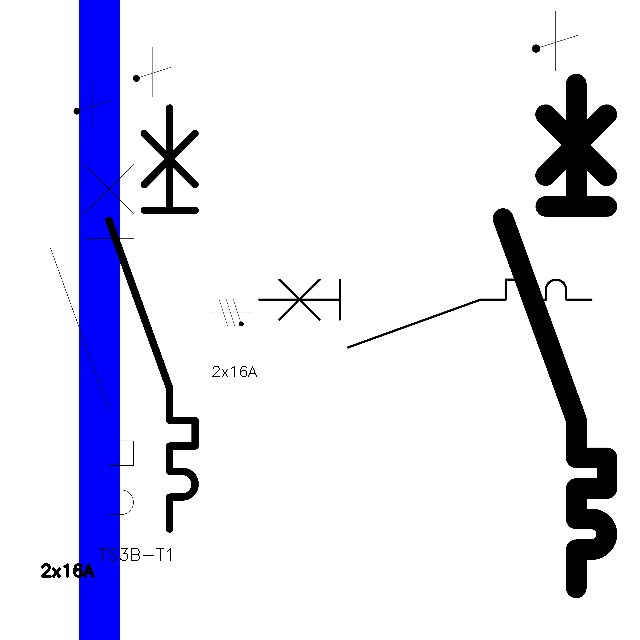interruptor_termomagnetico: (490, 71, 620, 601), (98, 97, 206, 540), (40, 129, 144, 556), (250, 271, 599, 356)
